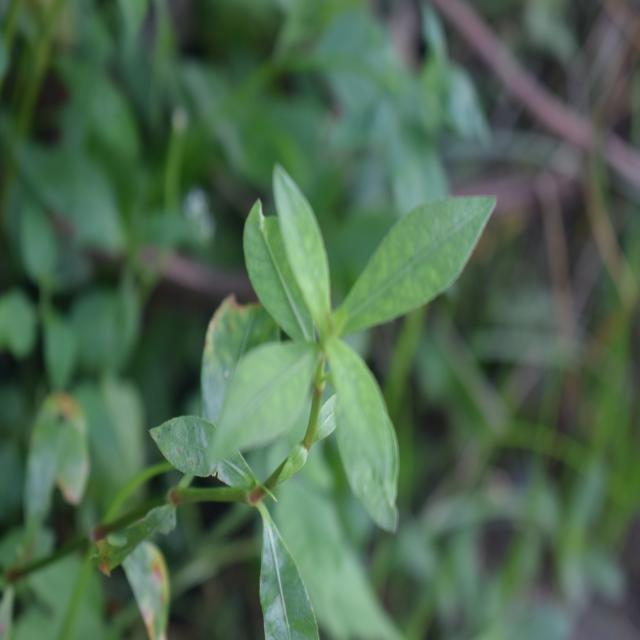Alligatorweed: (202, 169, 495, 533)
